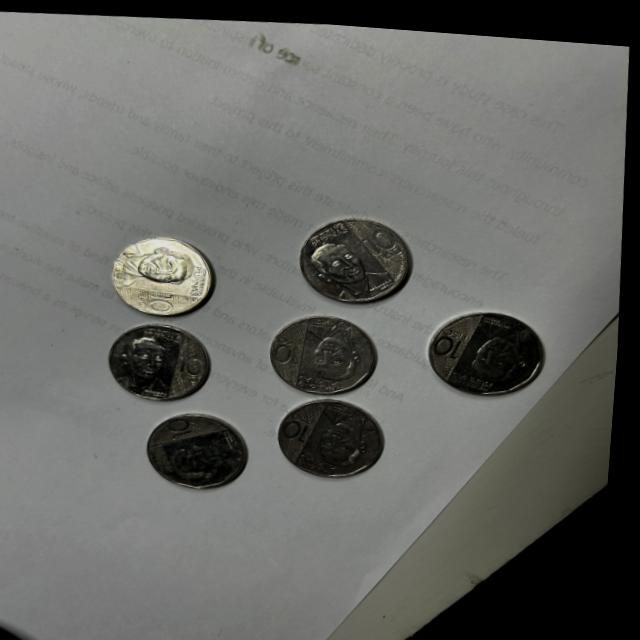10_New_Front: (365, 220, 408, 259), (436, 314, 473, 356), (274, 329, 313, 368), (164, 412, 213, 442), (287, 405, 324, 442), (180, 340, 213, 380), (141, 287, 179, 318)
